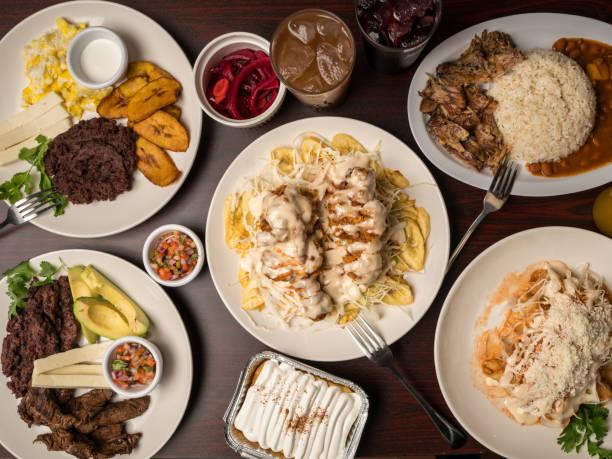Braised Crucian Carp: (204, 115, 445, 359), (4, 0, 203, 238), (432, 225, 610, 458), (2, 247, 194, 459), (408, 10, 609, 198), (221, 349, 368, 458)
